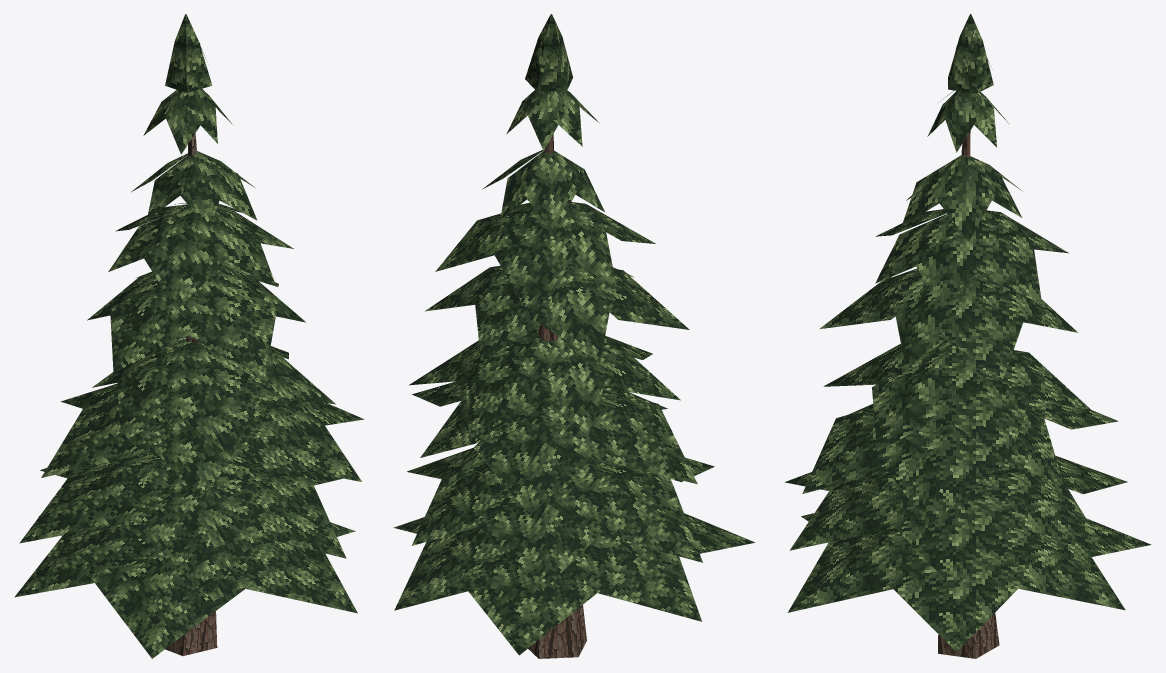
The model's file is TREE_Spruce_B_LOD2.glb.
3 renders of one model, left to right at view 1: azimuth 30°, elevation 25°; view 2: azimuth 150°, elevation 25°; view 3: azimuth 270°, elevation 25°, orthographic.
Visible parts, largest first — view 1: TREE_Spruce_B_LOD2__Foliage, TREE_Spruce_B_LOD2__Bark; view 2: TREE_Spruce_B_LOD2__Foliage, TREE_Spruce_B_LOD2__Bark; view 3: TREE_Spruce_B_LOD2__Foliage, TREE_Spruce_B_LOD2__Bark.
Part boxes in pixels (x1,y1,x2,y2): TREE_Spruce_B_LOD2__Foliage: (14, 14, 364, 658); TREE_Spruce_B_LOD2__Bark: (165, 133, 217, 655); TREE_Spruce_B_LOD2__Foliage: (393, 14, 754, 655); TREE_Spruce_B_LOD2__Bark: (528, 134, 586, 658); TREE_Spruce_B_LOD2__Foliage: (785, 14, 1151, 651); TREE_Spruce_B_LOD2__Bark: (938, 131, 999, 658).
Bounding box in the file's own units: 6.23 × 11.51 × 6.07.
Materials: 2 (2 with a texture image).
